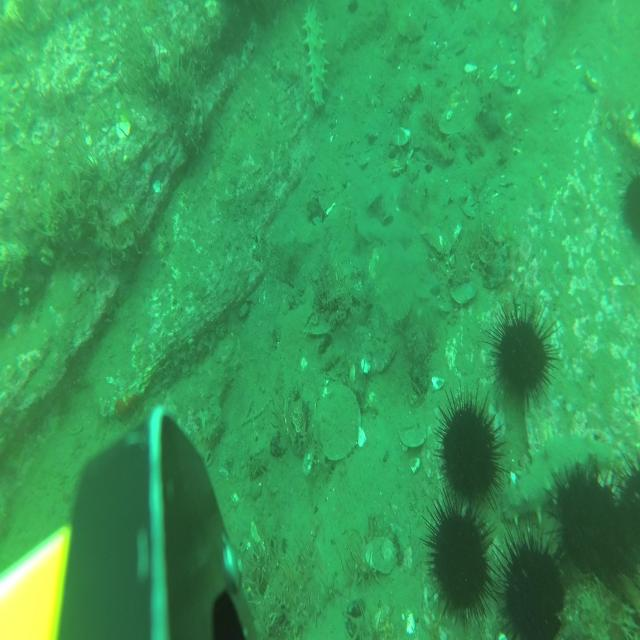echinus: (419, 485, 499, 628), (434, 382, 508, 514), (485, 294, 561, 410), (545, 456, 614, 582), (498, 527, 564, 640), (608, 445, 640, 585), (617, 166, 640, 248)
holothurian: (501, 434, 612, 525), (303, 2, 328, 108)
scallop: (312, 382, 361, 463), (364, 534, 396, 576), (401, 416, 426, 448), (399, 12, 427, 40)
